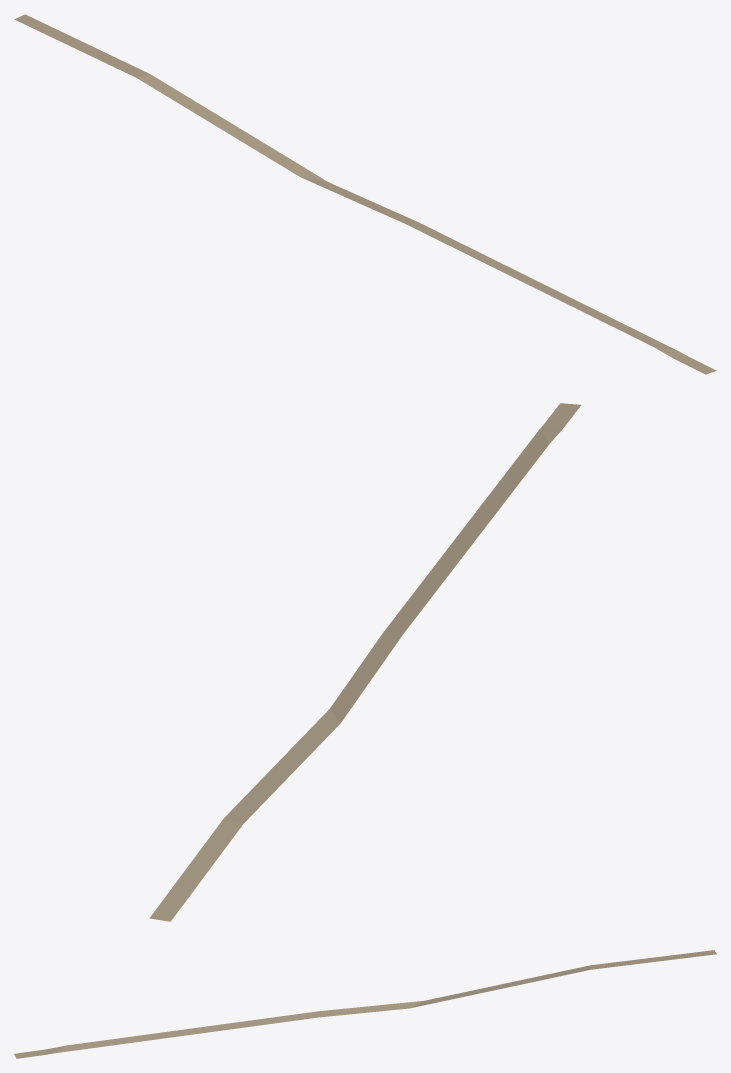
Rendered from farm_1_4_track.glb.
3 views of the same model, one above another, from view 1: azimuth 30°, elevation 25°; view 2: azimuth 150°, elevation 25°; view 3: azimuth 270°, elevation 25° (orthographic). The views are drawn at different scales.
Visible parts, largest first — view 1: geometry_0; view 2: geometry_0; view 3: geometry_0.
Boxes of the visible parts, x1,y1,x2,y2 form: geometry_0: [14, 14, 716, 374]; geometry_0: [149, 403, 581, 921]; geometry_0: [14, 950, 716, 1058].
Bounding box in the file's own units: 52.36 × 11.04 × 207.
